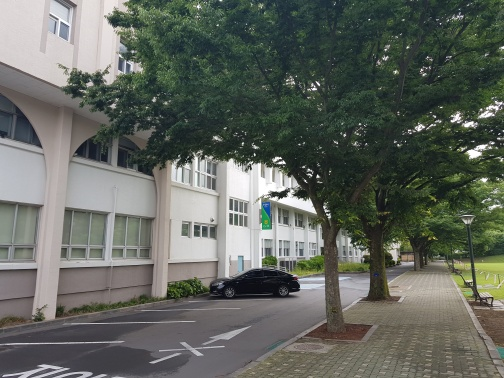Main Building of University: (10, 7, 323, 271), (72, 123, 158, 263), (260, 198, 274, 232)
